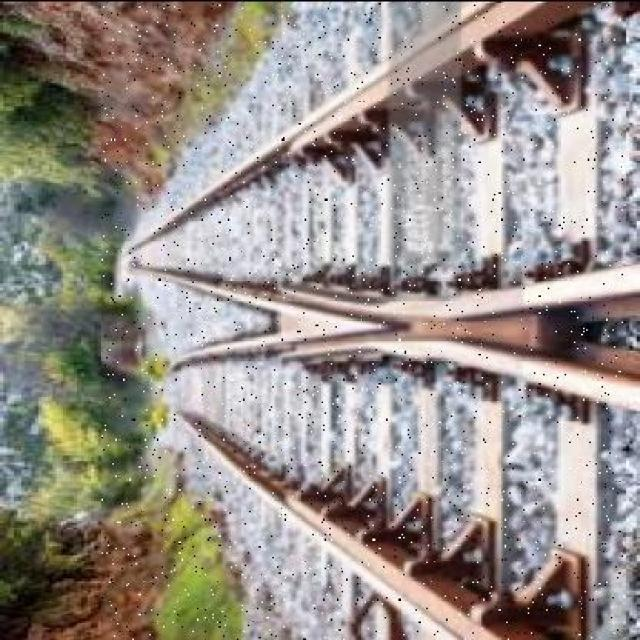rail: (102, 2, 623, 640)
